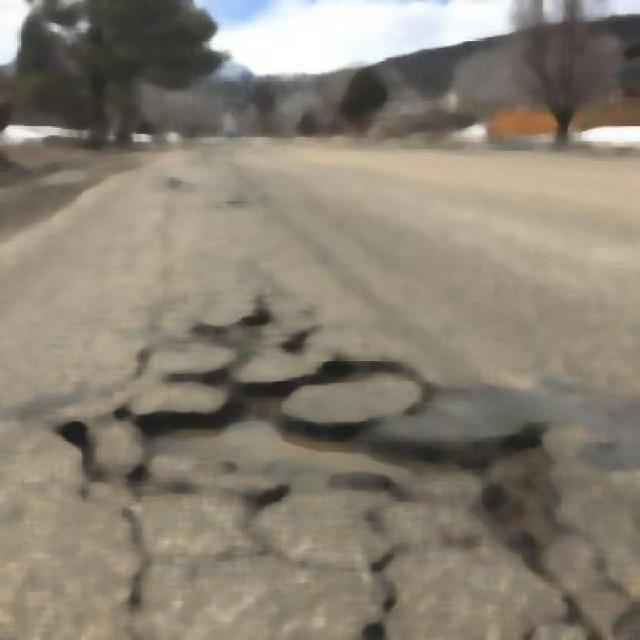Pothole: (111, 376, 504, 492)
